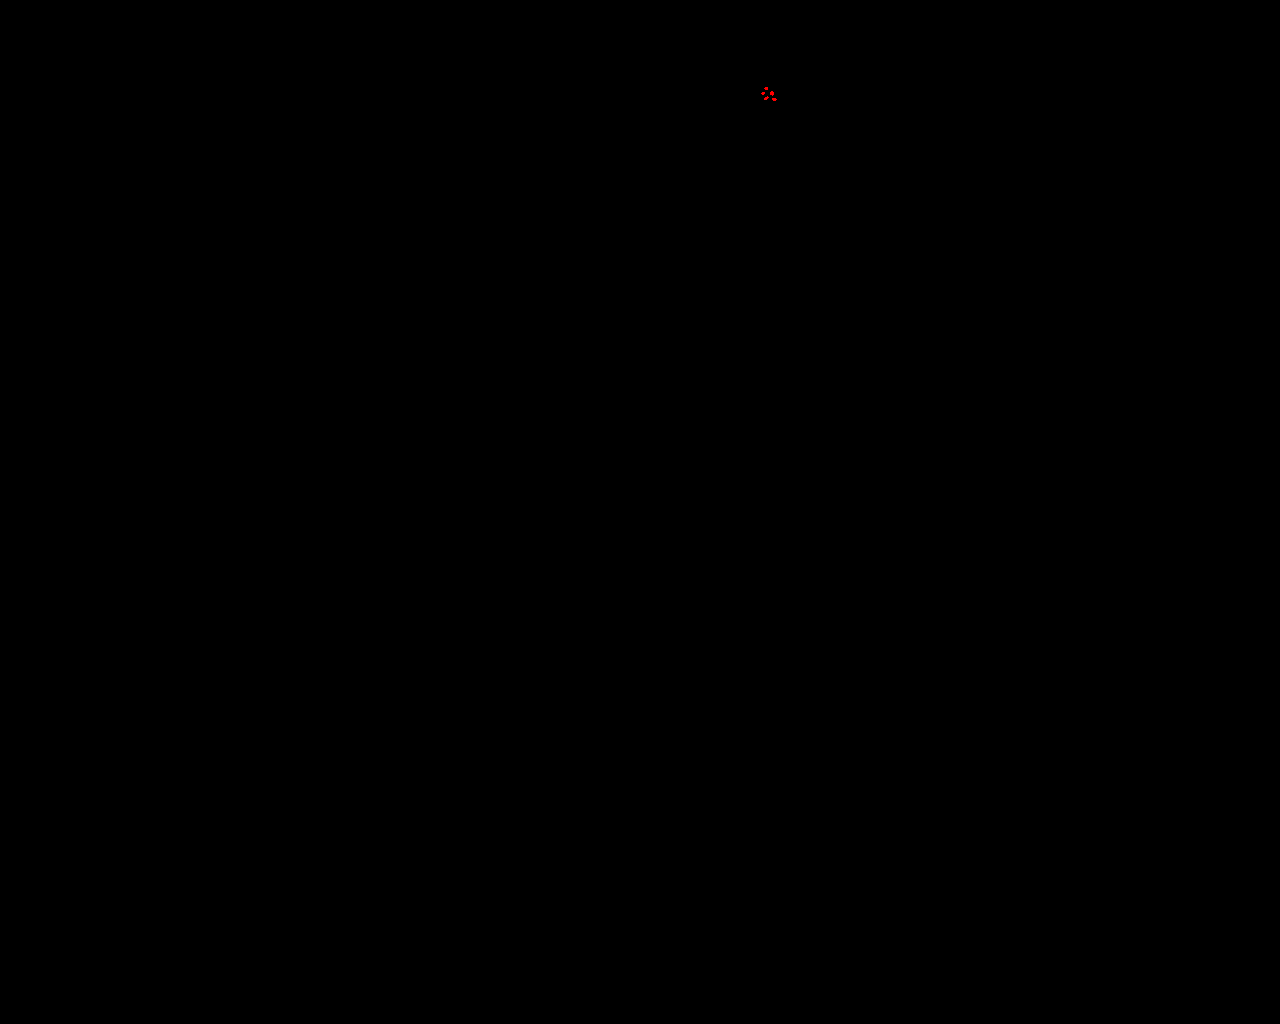Target: (770, 91, 774, 96), (764, 96, 769, 100), (772, 98, 777, 101), (764, 87, 768, 90), (761, 92, 765, 95)
